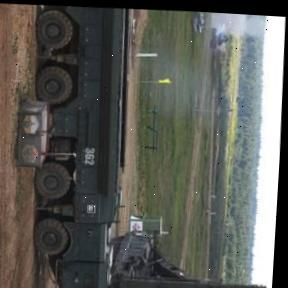rszo: (11, 2, 148, 288)
tank: (207, 25, 230, 50), (192, 13, 207, 35)
